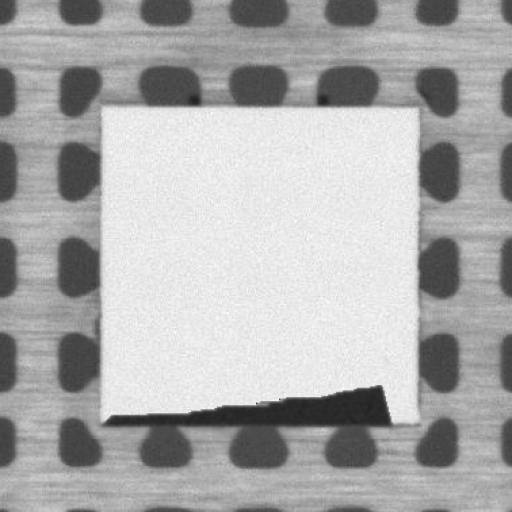DIE_BROKEN: (96, 381, 394, 428)
